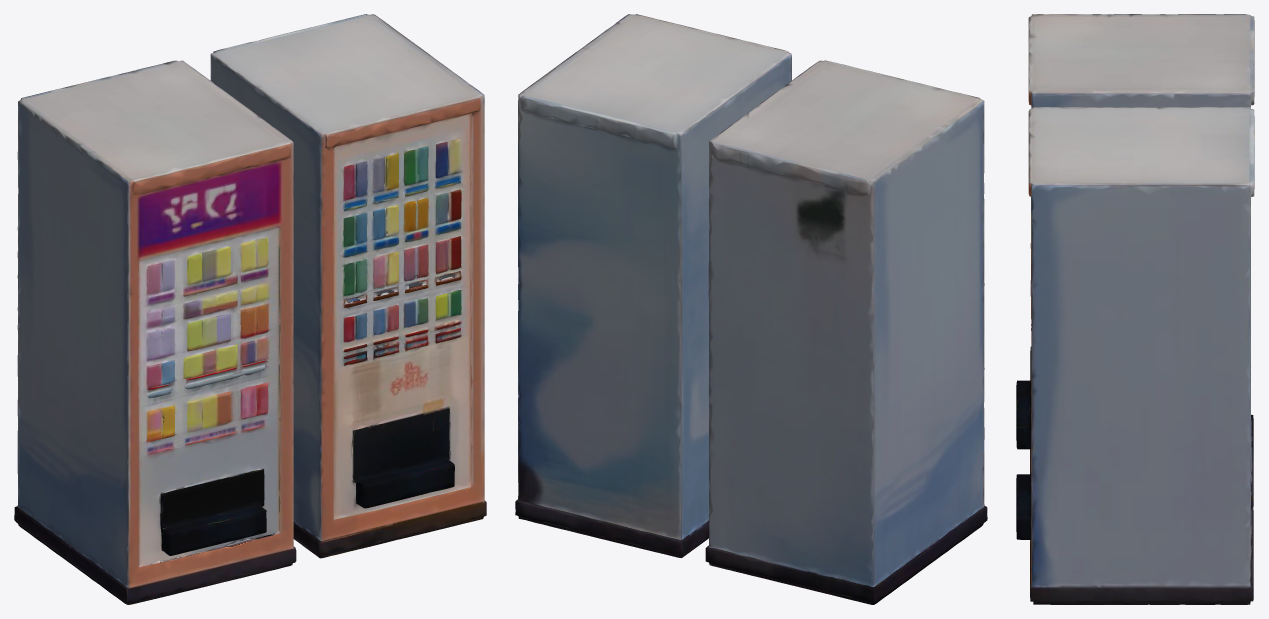
File: vending.glb
The picture shows the model from 3 angles, left to right: view 1: azimuth 30°, elevation 25°; view 2: azimuth 150°, elevation 25°; view 3: azimuth 270°, elevation 25°; orthographic projection.
Parts seen in each view (by area): view 1: vending; view 2: vending; view 3: vending.
Boxes of the visible parts, x1=… form: vending: x1=14, y1=14, x2=486, y2=604; vending: x1=515, y1=14, x2=987, y2=604; vending: x1=1016, y1=14, x2=1254, y2=604.
Bounding box in the file's own units: 1.6 × 1.8 × 0.9253.
1 material, 1 textured.
